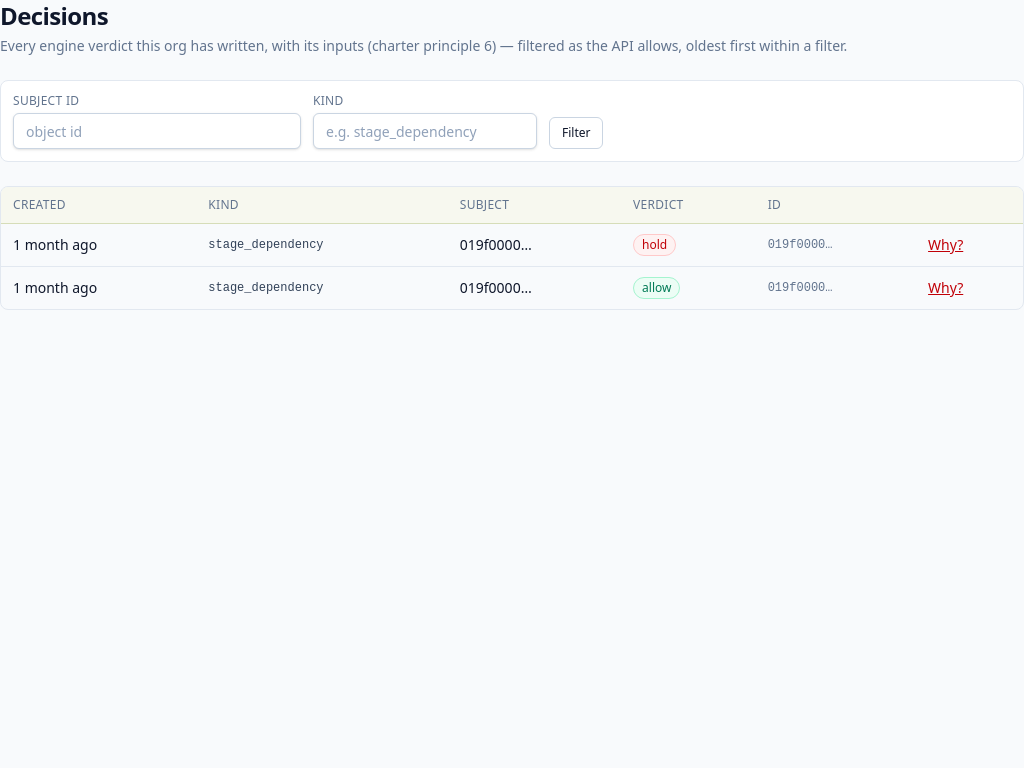
Admin › Decisions — the Why affordance opens the shared DecisionDetailDialog › shows the CLICKED row's own record, formatted by decisionSummary
Click the 2nd button "Why?" at (946, 288), box [928, 278, 963, 298]
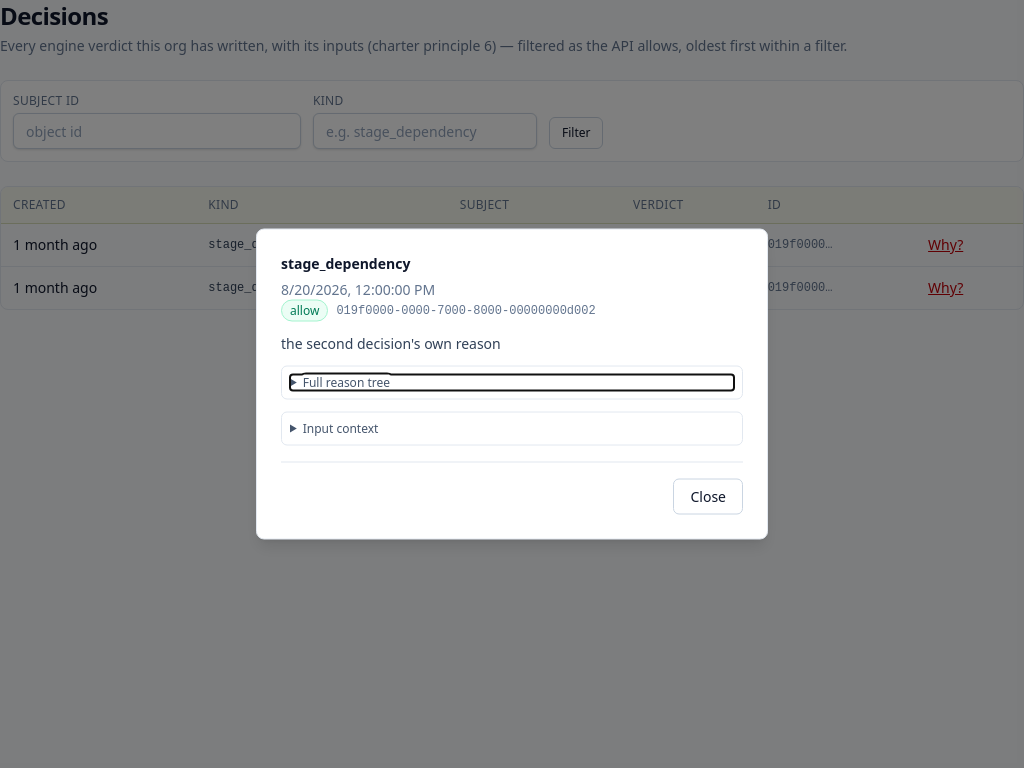
Expected: the text "the second decision's own reason" is shown, [281, 334, 501, 352]
Expected: the text "allow" is shown, [281, 300, 328, 322]
